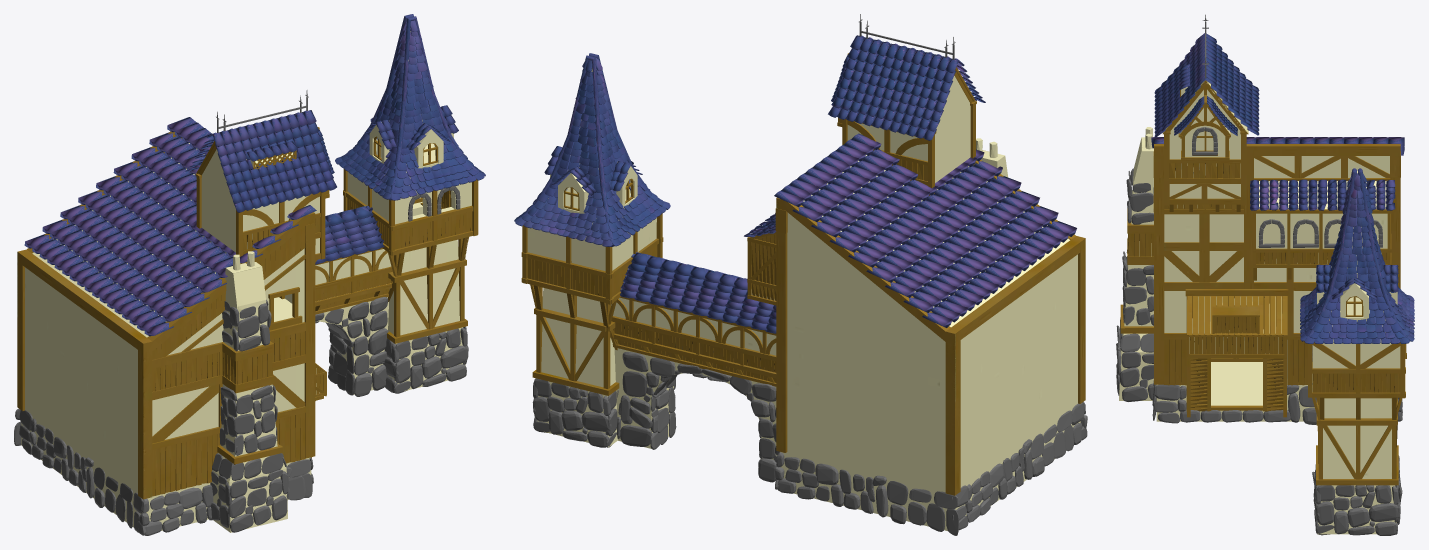
Rendered from tavern.glb.
The picture shows the model from 3 angles, left to right: view 1: azimuth 30°, elevation 25°; view 2: azimuth 150°, elevation 25°; view 3: azimuth 270°, elevation 25°; orthographic projection. The views are drawn at different scales.
Visible parts, largest first — view 1: tower.002, building.001, wood.001, Circle.002, boards.001, roof-decor.002; view 2: building.001, tower.002, wood.001, Circle.002, boards.001; view 3: wood.001, building.001, tower.002, boards.001, Circle.002, roof-decor.002.
Part boxes in pixels (<box>): tower.002: <box>24,14,485,336</box>; building.001: <box>21,31,471,532</box>; wood.001: <box>17,127,478,499</box>; Circle.002: <box>14,297,468,535</box>; boards.001: <box>152,192,472,496</box>; roof-decor.002: <box>216,90,460,221</box>; building.001: <box>527,68,1080,530</box>; tower.002: <box>514,35,1076,333</box>; wood.001: <box>521,53,1085,495</box>; Circle.002: <box>532,352,1087,535</box>; boards.001: <box>527,158,927,382</box>; wood.001: <box>1120,80,1406,485</box>; building.001: <box>1119,87,1400,534</box>; tower.002: <box>1151,33,1414,343</box>; boards.001: <box>1127,163,1400,411</box>; Circle.002: <box>1116,168,1402,535</box>; roof-decor.002: <box>1192,14,1382,361</box>.
Size of the model in its own units: 17.94 by 15.51 by 11.12.
Materials: 6 (6 with a texture image).
